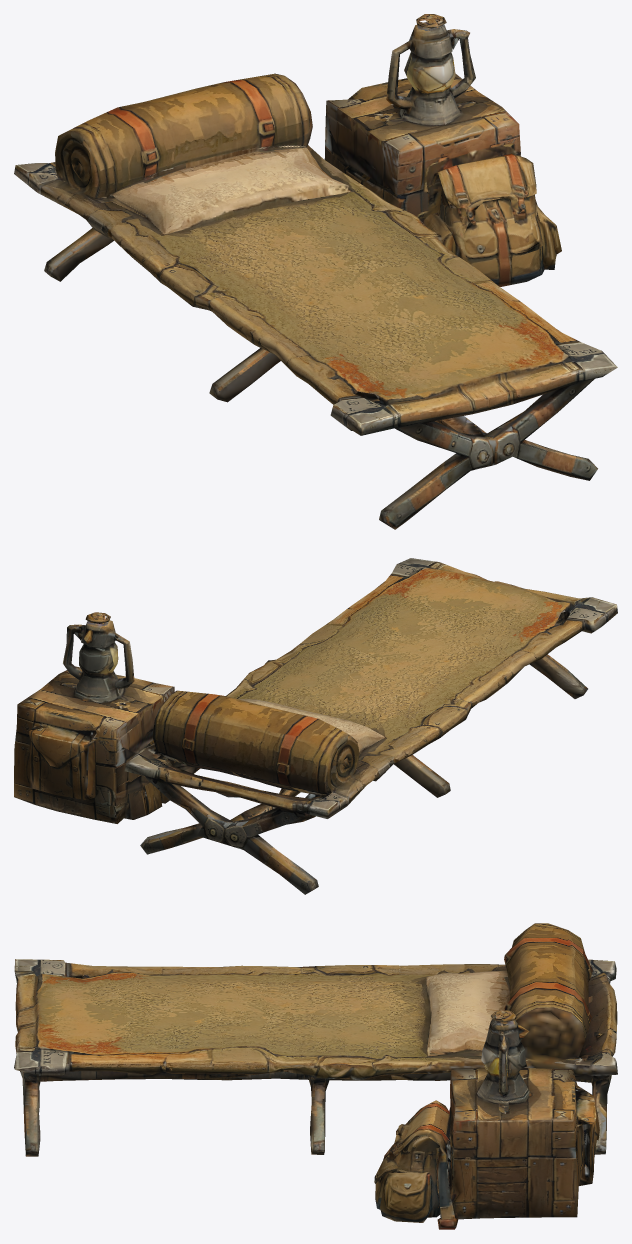
The model's file is EX_Camp_Cot.fbx.
3 renders of one model, top to bottom at view 1: azimuth 30°, elevation 25°; view 2: azimuth 150°, elevation 25°; view 3: azimuth 270°, elevation 25°, orthographic. The views are drawn at different scales.
Visible parts, largest first — view 1: texture_mapping; view 2: texture_mapping; view 3: texture_mapping.
Part boxes in pixels (box(x1,y1,x2,y2)): texture_mapping: box(14, 14, 617, 529); texture_mapping: box(14, 558, 617, 894); texture_mapping: box(14, 923, 617, 1229).
Bounding box in the file's own units: 0.7228 × 1 × 0.3575.
1 material, 1 textured.
